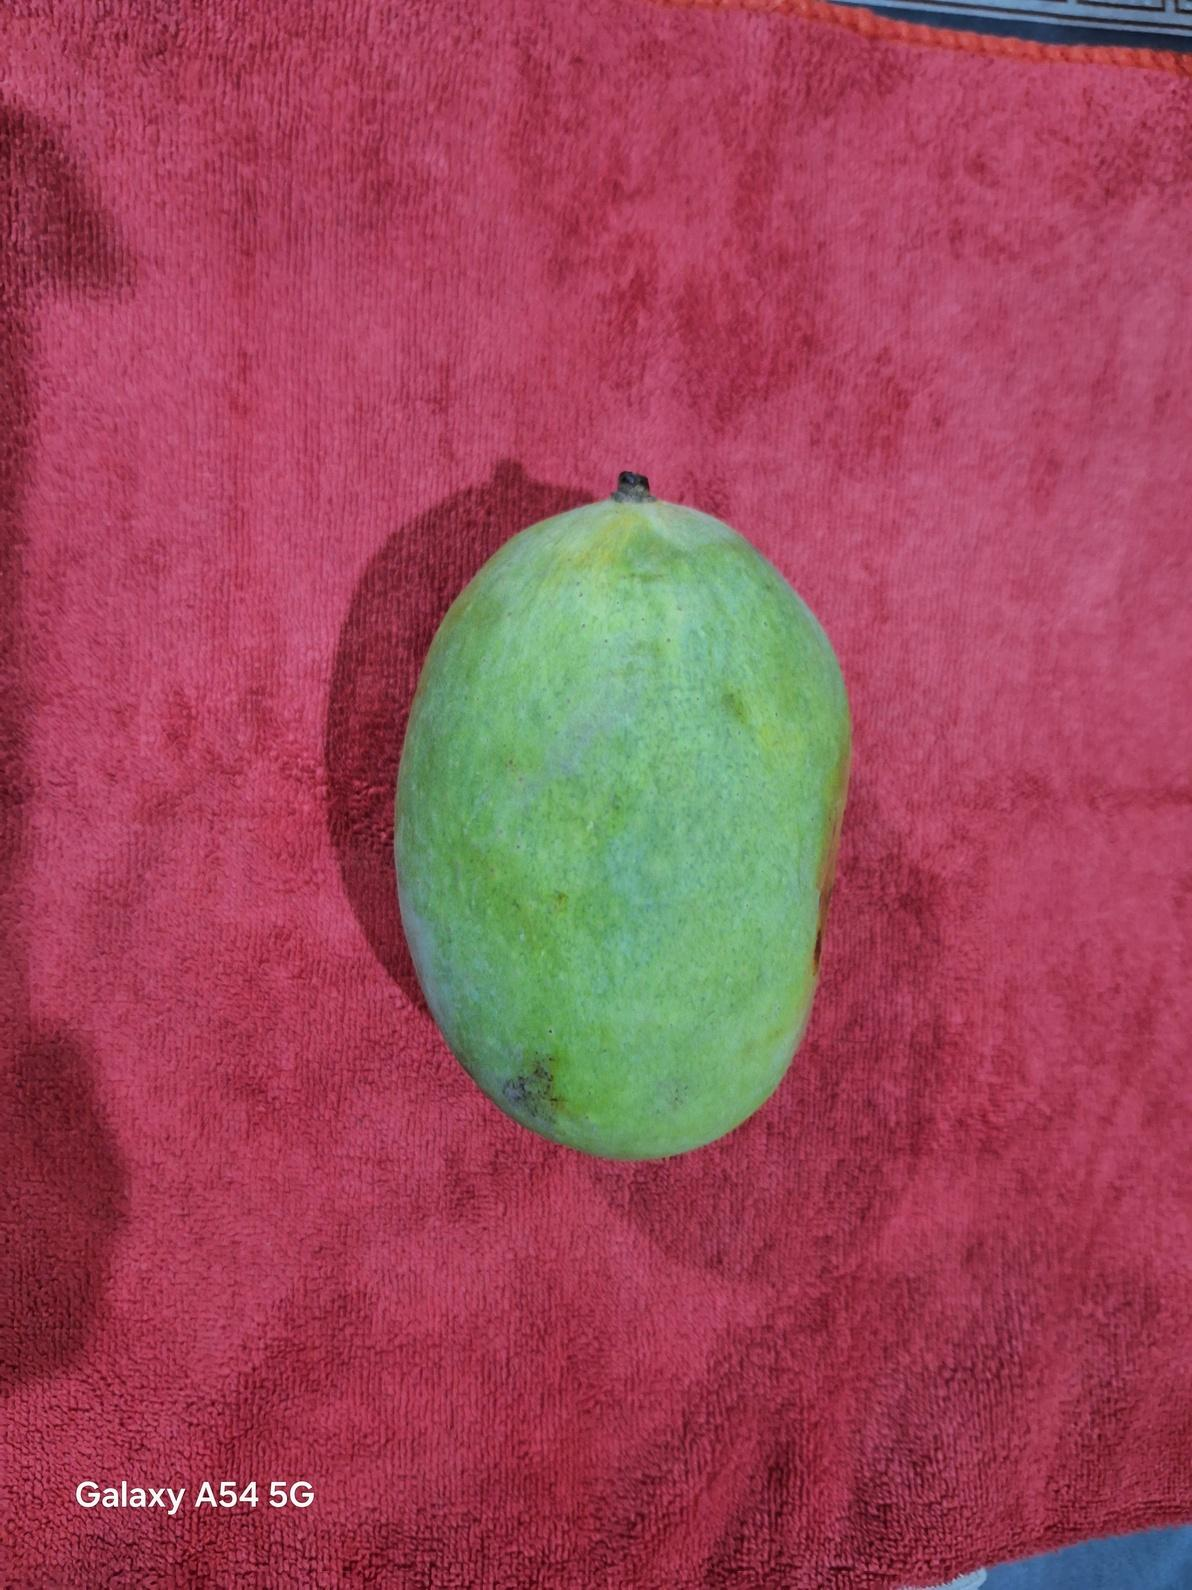mango: (391, 468, 853, 1162)
